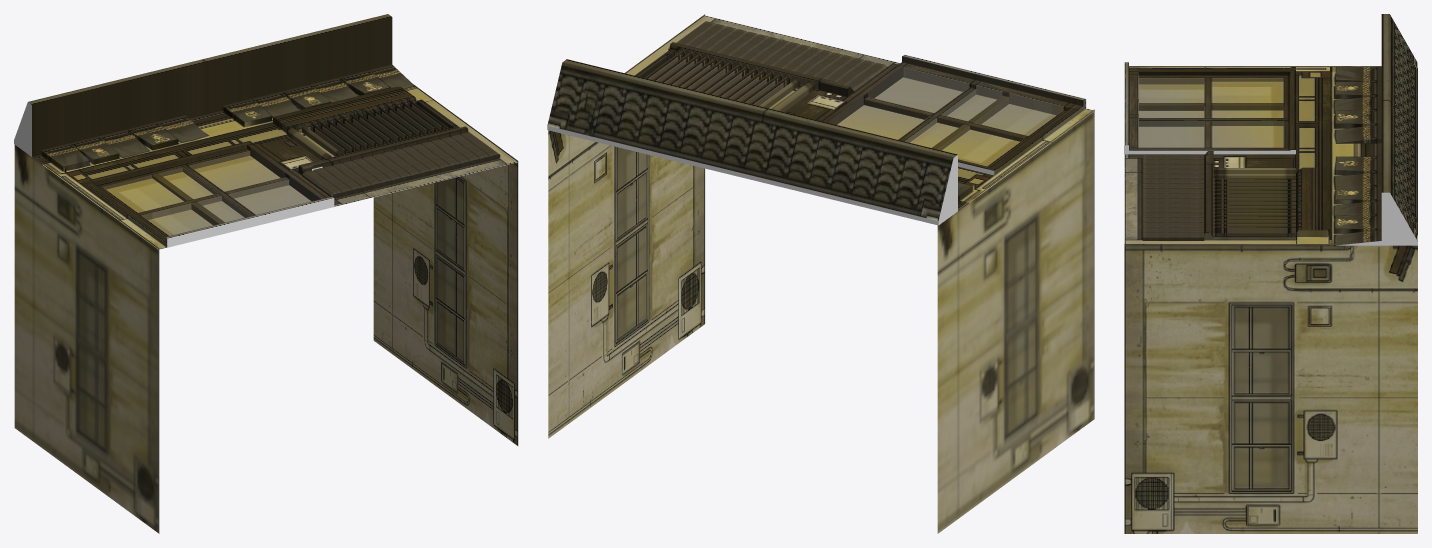
3 views of the same model, side by side, from view 1: azimuth 30°, elevation 25°; view 2: azimuth 150°, elevation 25°; view 3: azimuth 270°, elevation 25° (orthographic). The views are drawn at different scales.
Parts seen in each view (by area): view 1: Plane.037, Plane.036, Plane, Plane.002, Plane.001; view 2: Plane.037, Plane.036, Plane, Plane.002; view 3: Plane.036, Plane, Plane.002, Plane.001, Plane.020, Plane.019, Plane.035, Plane.037, Plane.027, Plane.029, Plane.034, Plane.021 (+11 smaller).
Boxes of the visible parts, x1,y1,x2,y2 form: Plane.037: (14, 145, 159, 533); Plane.036: (373, 81, 518, 445); Plane: (14, 14, 517, 206); Plane.002: (74, 141, 334, 249); Plane.001: (32, 64, 416, 175); Plane.037: (937, 109, 1094, 533); Plane.036: (548, 14, 705, 438); Plane: (547, 15, 1003, 225); Plane.002: (821, 54, 1094, 177); Plane.036: (1124, 244, 1417, 533); Plane: (1124, 14, 1417, 245); Plane.002: (1124, 62, 1295, 154); Plane.001: (1330, 67, 1381, 245); Plane.020: (1213, 226, 1295, 233); Plane.019: (1142, 232, 1204, 240); Plane.035: (1213, 168, 1295, 173); Plane.037: (1129, 66, 1381, 67); Plane.027: (1213, 200, 1295, 204); Plane.029: (1213, 193, 1295, 197); Plane.034: (1213, 174, 1295, 178); Plane.021: (1213, 222, 1295, 226).
Size of the model in its own units: 0.734 by 0.6551 by 0.5102.
33 materials, 33 textured.
